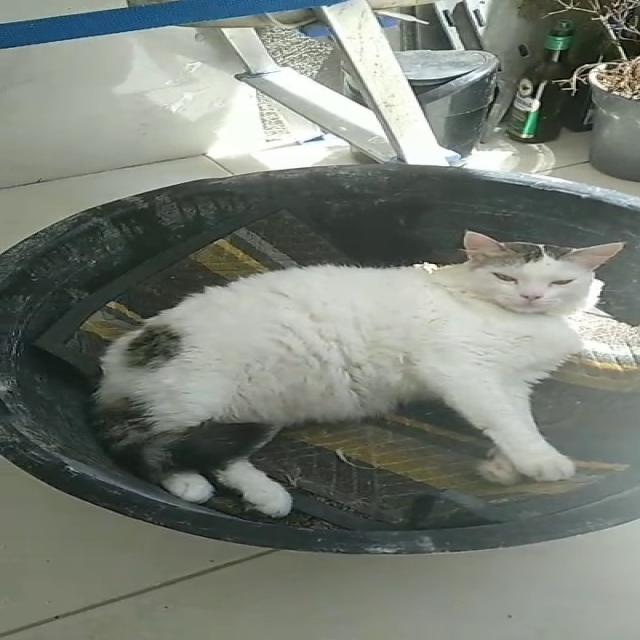Simba: (62, 197, 638, 520)
